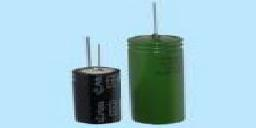Electrolytic Capacitor: (126, 1, 185, 127), (64, 32, 124, 128)
